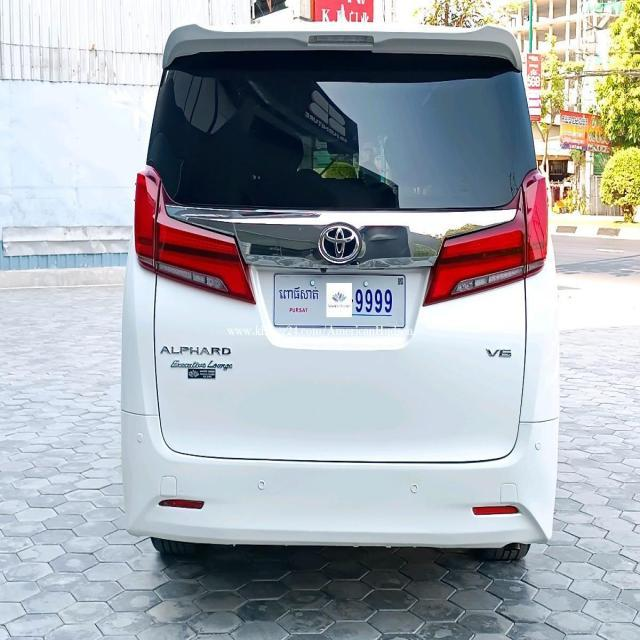Pursat: (278, 283, 322, 302)
